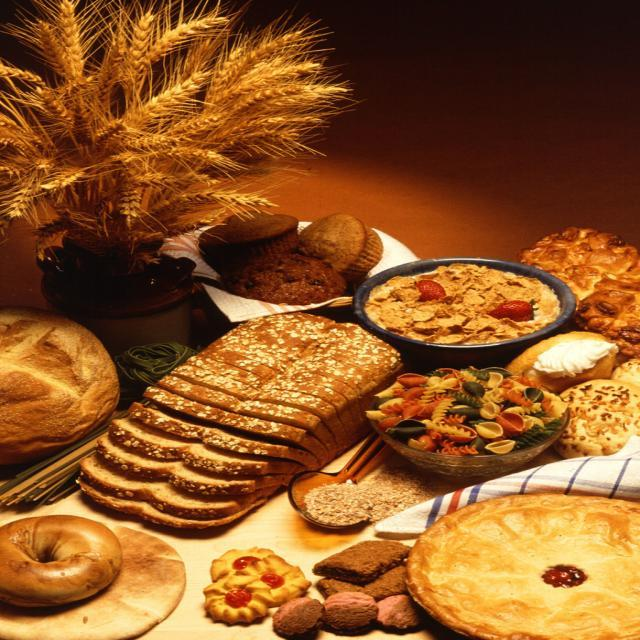Bagel: (73, 312, 410, 531), (0, 514, 123, 604)
